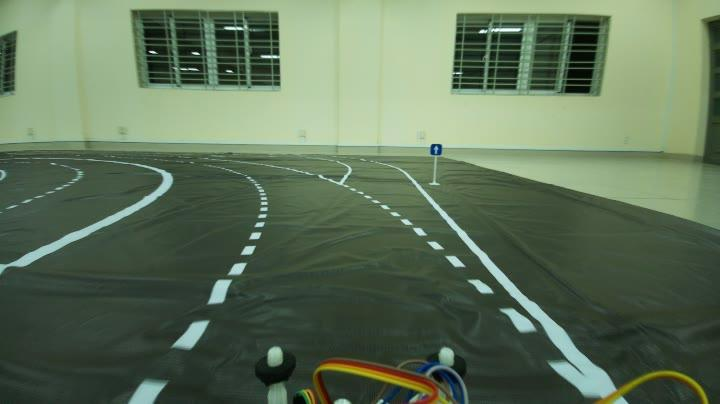onewayroad: (426, 140, 448, 155)
